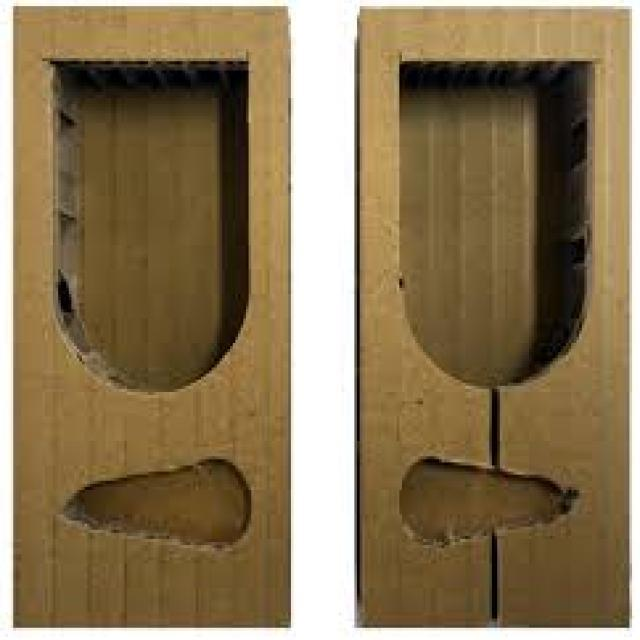Cardboard: (14, 6, 292, 622), (355, 7, 628, 627)
